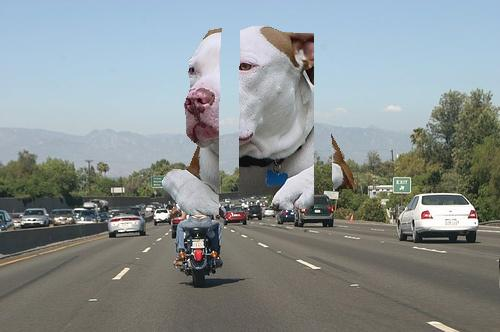tampered: (163, 27, 357, 215)
